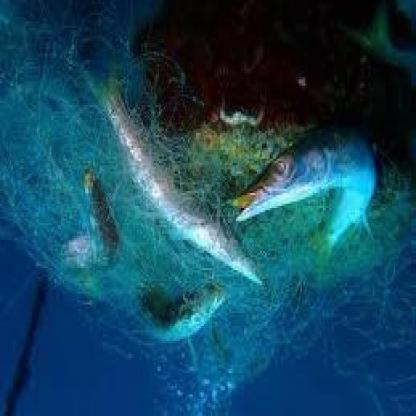net: (9, 24, 398, 374)
